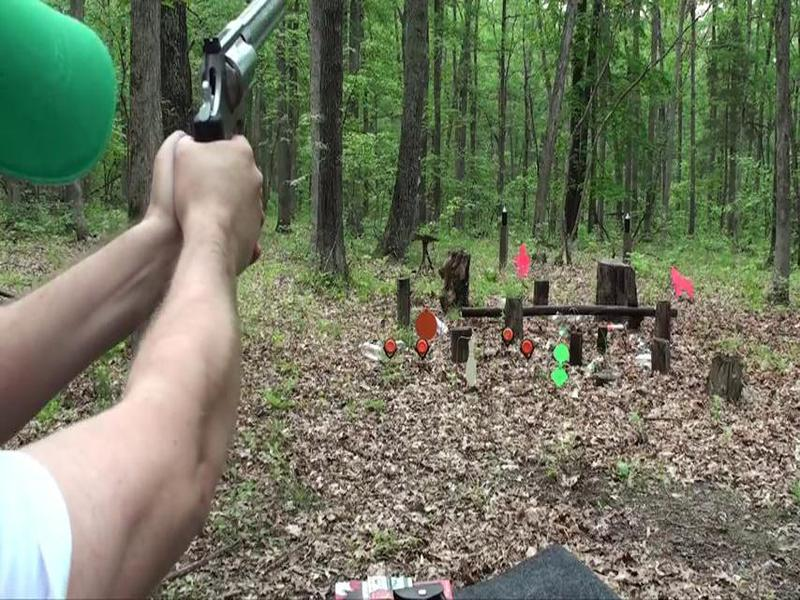Revolver: (194, 1, 305, 184)
